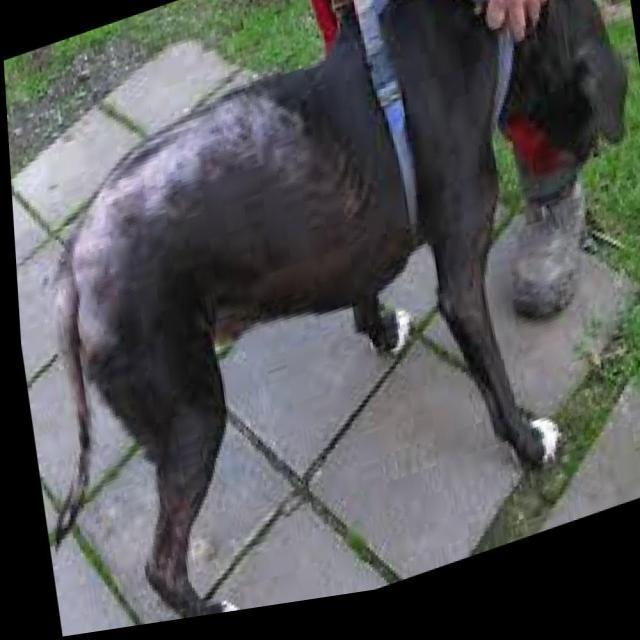allergic dermatitis: (102, 101, 306, 213), (74, 202, 144, 366)
